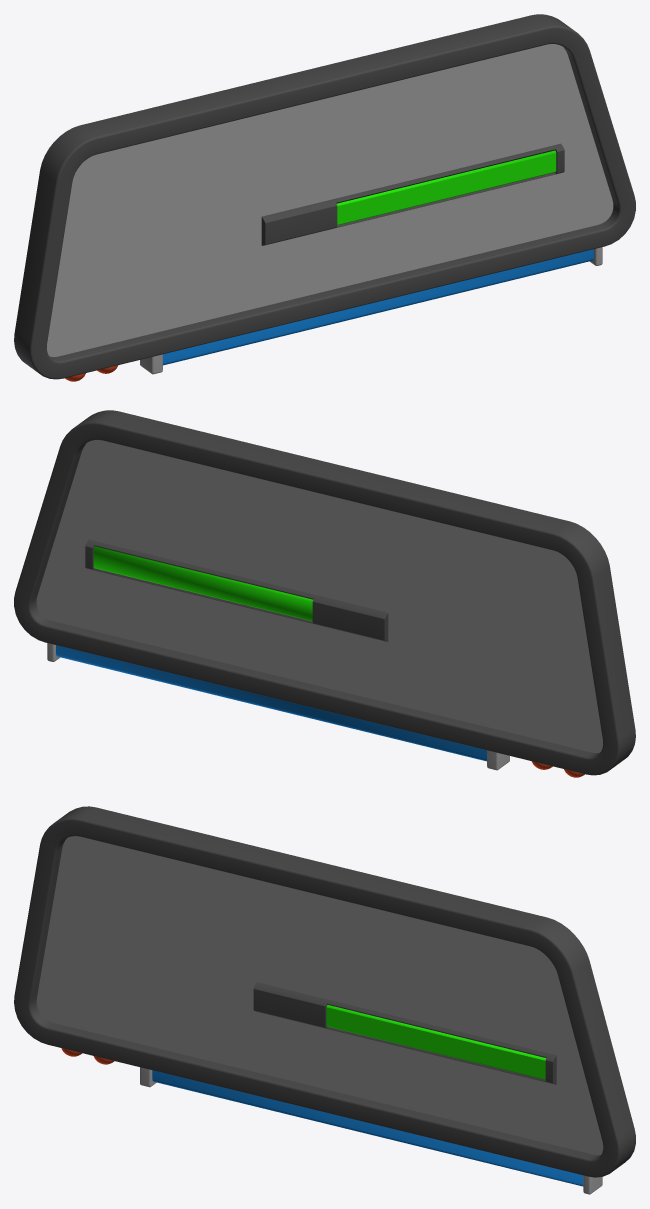
The model's file is hud3d.fbx.
3 views of the same model, one above another, from view 1: azimuth 30°, elevation 25°; view 2: azimuth 150°, elevation 25°; view 3: azimuth 330°, elevation 25° (orthographic).
Parts seen in each view (by area): view 1: Body, Border, expbar, healthbar, health container, exp container; view 2: Body, Border, expbar, healthbar, health container, exp container; view 3: Body, Border, expbar, healthbar, health container, exp container.
Part boxes in pixels (x1=…): Body: x1=47, y1=44, x2=613, y2=356; Border: x1=14, y1=14, x2=635, y2=379; expbar: x1=163, y1=249, x2=593, y2=365; healthbar: x1=336, y1=150, x2=556, y2=225; health container: x1=261, y1=143, x2=564, y2=245; exp container: x1=140, y1=247, x2=602, y2=374; Body: x1=36, y1=440, x2=602, y2=752; Border: x1=14, y1=410, x2=635, y2=775; expbar: x1=56, y1=645, x2=486, y2=761; healthbar: x1=93, y1=546, x2=313, y2=621; health container: x1=85, y1=539, x2=388, y2=641; exp container: x1=47, y1=643, x2=509, y2=770; Body: x1=36, y1=836, x2=603, y2=1155; Border: x1=14, y1=806, x2=635, y2=1177; expbar: x1=152, y1=1070, x2=583, y2=1186; healthbar: x1=326, y1=1005, x2=546, y2=1079; health container: x1=253, y1=982, x2=556, y2=1084; exp container: x1=140, y1=1067, x2=602, y2=1194.
Bounding box in the file's own units: 320 × 128 × 16.
